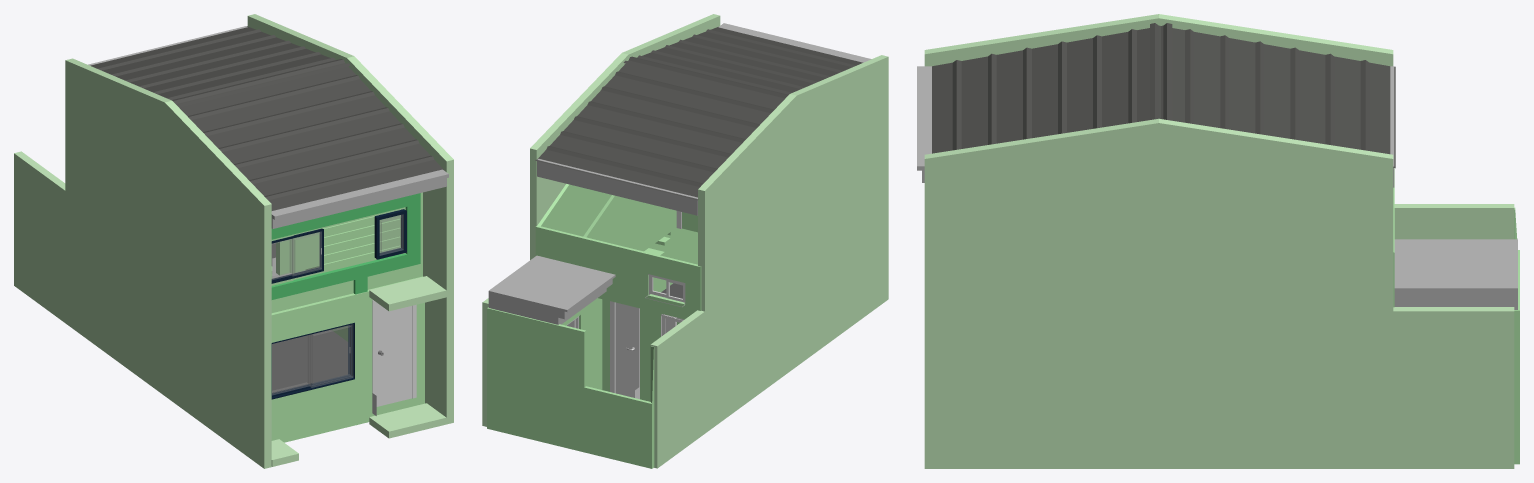
File: housemodel_green.glb
3 renders of one model, left to right at view 1: azimuth 30°, elevation 25°; view 2: azimuth 150°, elevation 25°; view 3: azimuth 270°, elevation 25°, orthographic. The views are drawn at different scales.
Visible parts, largest first — view 1: Cube.015, Plane.007, Wall.004, wall.005, Cube.018, roof.002, Floor.003, Door.020, Window.L.021, Window.R.018, Cube.013, Cube.017 (+8 smaller); view 2: Cube.015, Plane.007, Wall.004, wall.005, Roof.005, roof.002, Door.018, DoorFrame.018; view 3: Cube.015, Plane.007, Roof.005, roof.002, Wall.004.
Part boxes in pixels (<box>): Cube.015: <box>14,14,453,468</box>; Plane.007: <box>90,26,444,210</box>; Wall.004: <box>271,266,424,442</box>; wall.005: <box>271,192,422,312</box>; Cube.018: <box>271,193,420,299</box>; roof.002: <box>88,26,448,228</box>; Floor.003: <box>272,330,348,392</box>; Door.020: <box>376,303,412,406</box>; Window.L.021: <box>309,324,353,387</box>; Window.R.018: <box>272,335,310,394</box>; Cube.013: <box>369,403,446,438</box>; Cube.017: <box>369,276,446,311</box>; Cube.015: <box>482,14,888,468</box>; Plane.007: <box>535,27,862,200</box>; Wall.004: <box>487,228,697,468</box>; wall.005: <box>535,184,701,319</box>; Roof.005: <box>488,255,615,324</box>; roof.002: <box>537,23,871,215</box>; Door.018: <box>615,302,634,397</box>; DoorFrame.018: <box>610,301,639,399</box>; Cube.015: <box>924,14,1514,468</box>; Plane.007: <box>932,23,1395,168</box>; Roof.005: <box>1394,239,1517,309</box>; roof.002: <box>917,66,1394,187</box>; Wall.004: <box>1514,207,1519,464</box>.
Size of the model in its own units: 3.86 by 5.71 by 9.02.
